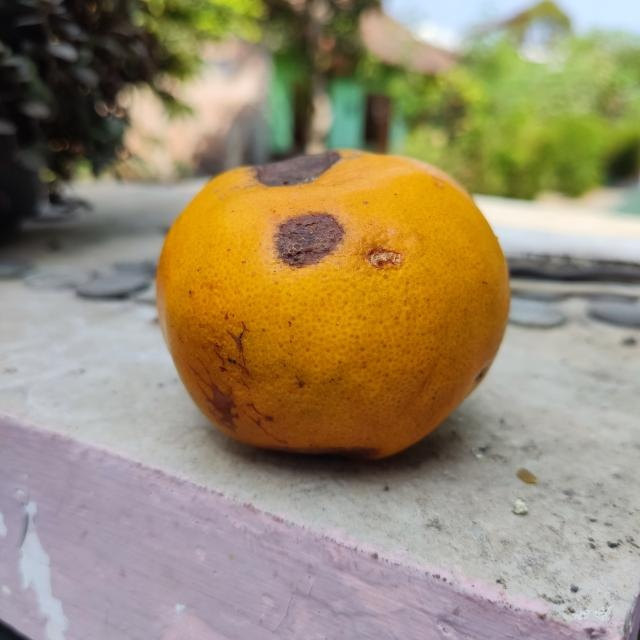agrume: (154, 147, 510, 462)
